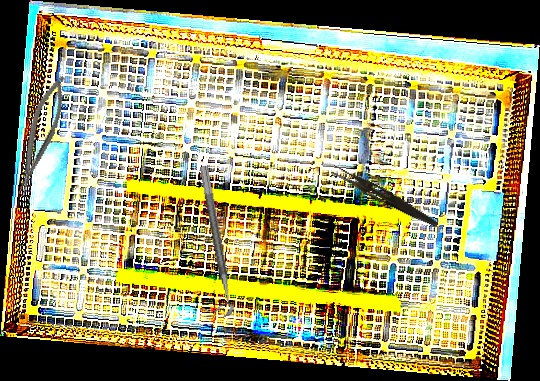Dressing Forceps: (328, 164, 442, 229)
Fixation Ring: (186, 165, 236, 319)
Needle Holder: (5, 71, 75, 199)
